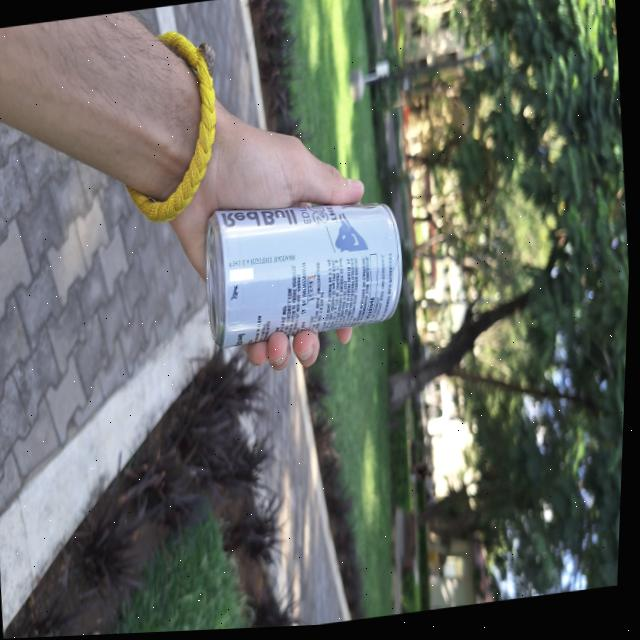Redbull Summer Edition: (201, 174, 414, 359)
